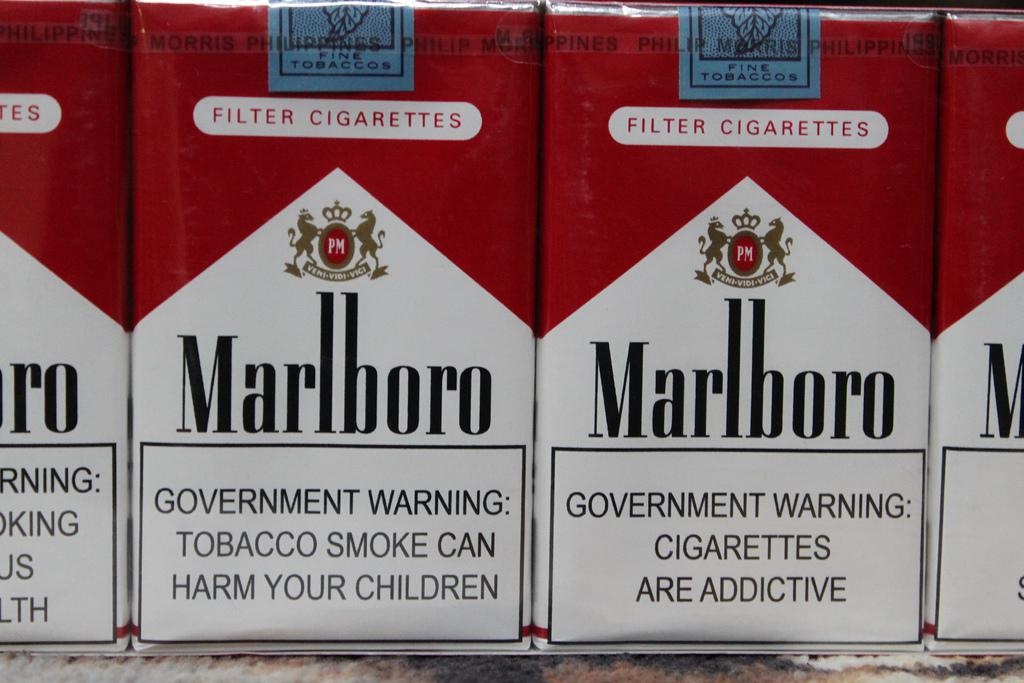marlboro_red: (135, 3, 535, 650), (541, 13, 927, 652)
